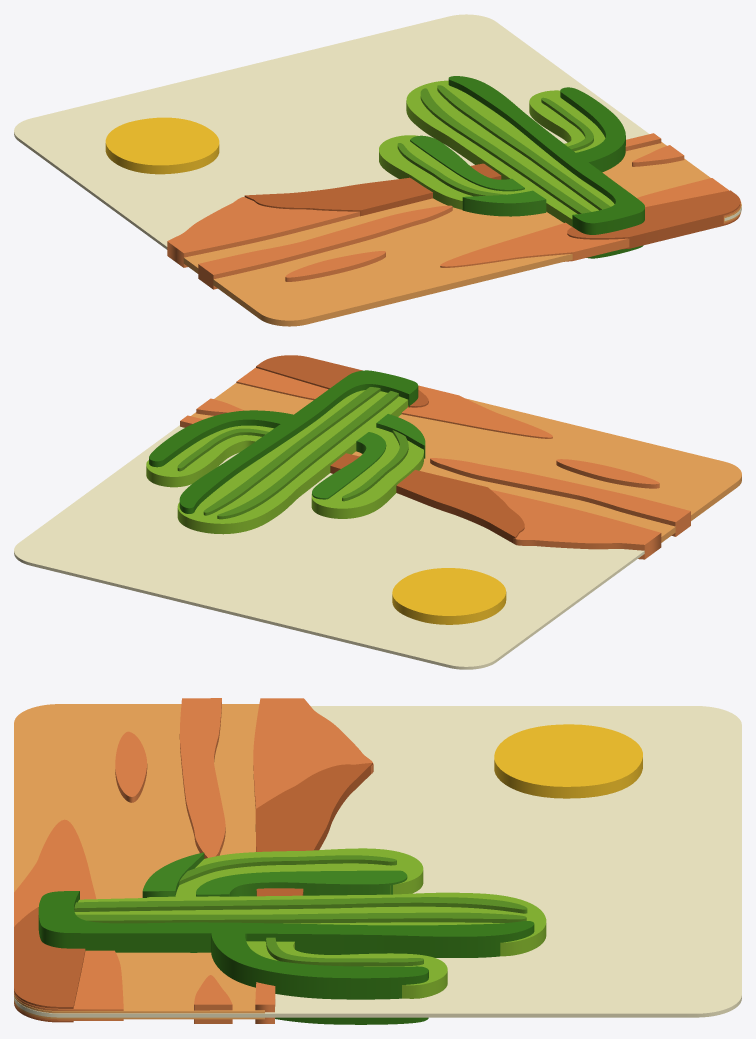
File: emoji_u1f3dc.glb
3 renders of one model, top to bottom at view 1: azimuth 30°, elevation 25°; view 2: azimuth 150°, elevation 25°; view 3: azimuth 270°, elevation 25°, orthographic. The views are drawn at different scales.
Visible parts, largest first — view 1: emoji_u1f3dc; view 2: emoji_u1f3dc; view 3: emoji_u1f3dc.
Boxes of the visible parts, bbox=[...] form: emoji_u1f3dc: bbox=[14, 14, 741, 326]; emoji_u1f3dc: bbox=[14, 355, 741, 669]; emoji_u1f3dc: bbox=[14, 698, 741, 1024].
Size of the model in its own units: 0.034 by 0.0024 by 0.034.
